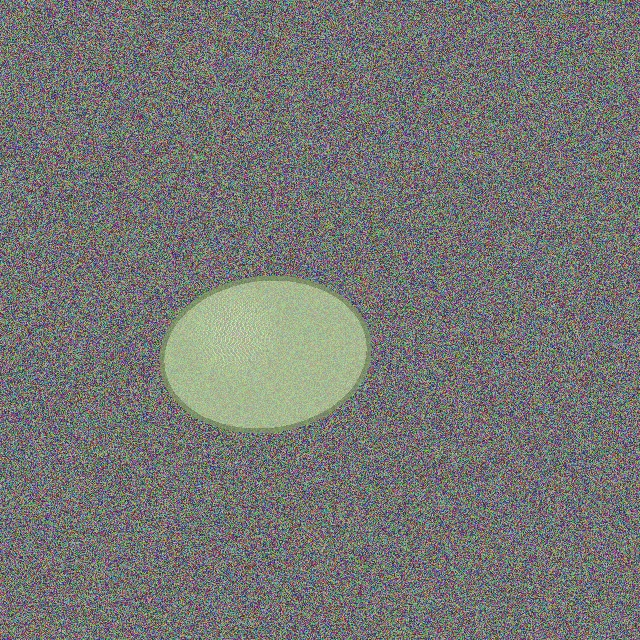lens: (162, 278, 368, 430)
